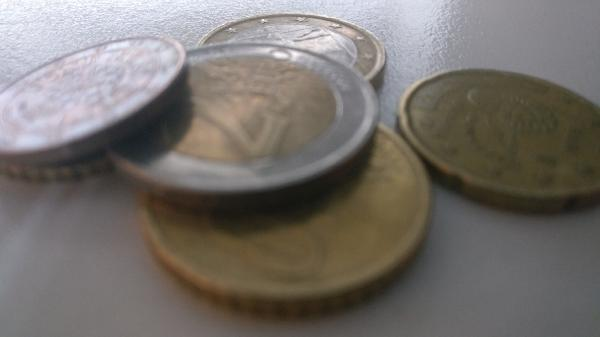Fifty Cent: (133, 104, 431, 322)
Five Cent: (1, 37, 193, 183)
One Euro: (195, 13, 382, 91)
Twenty Cent: (393, 59, 600, 209)
Two Euro: (96, 41, 382, 208)
